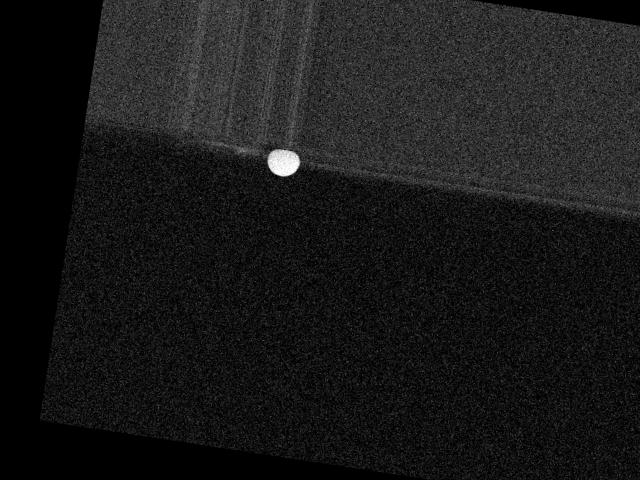egg: (264, 147, 300, 178)
